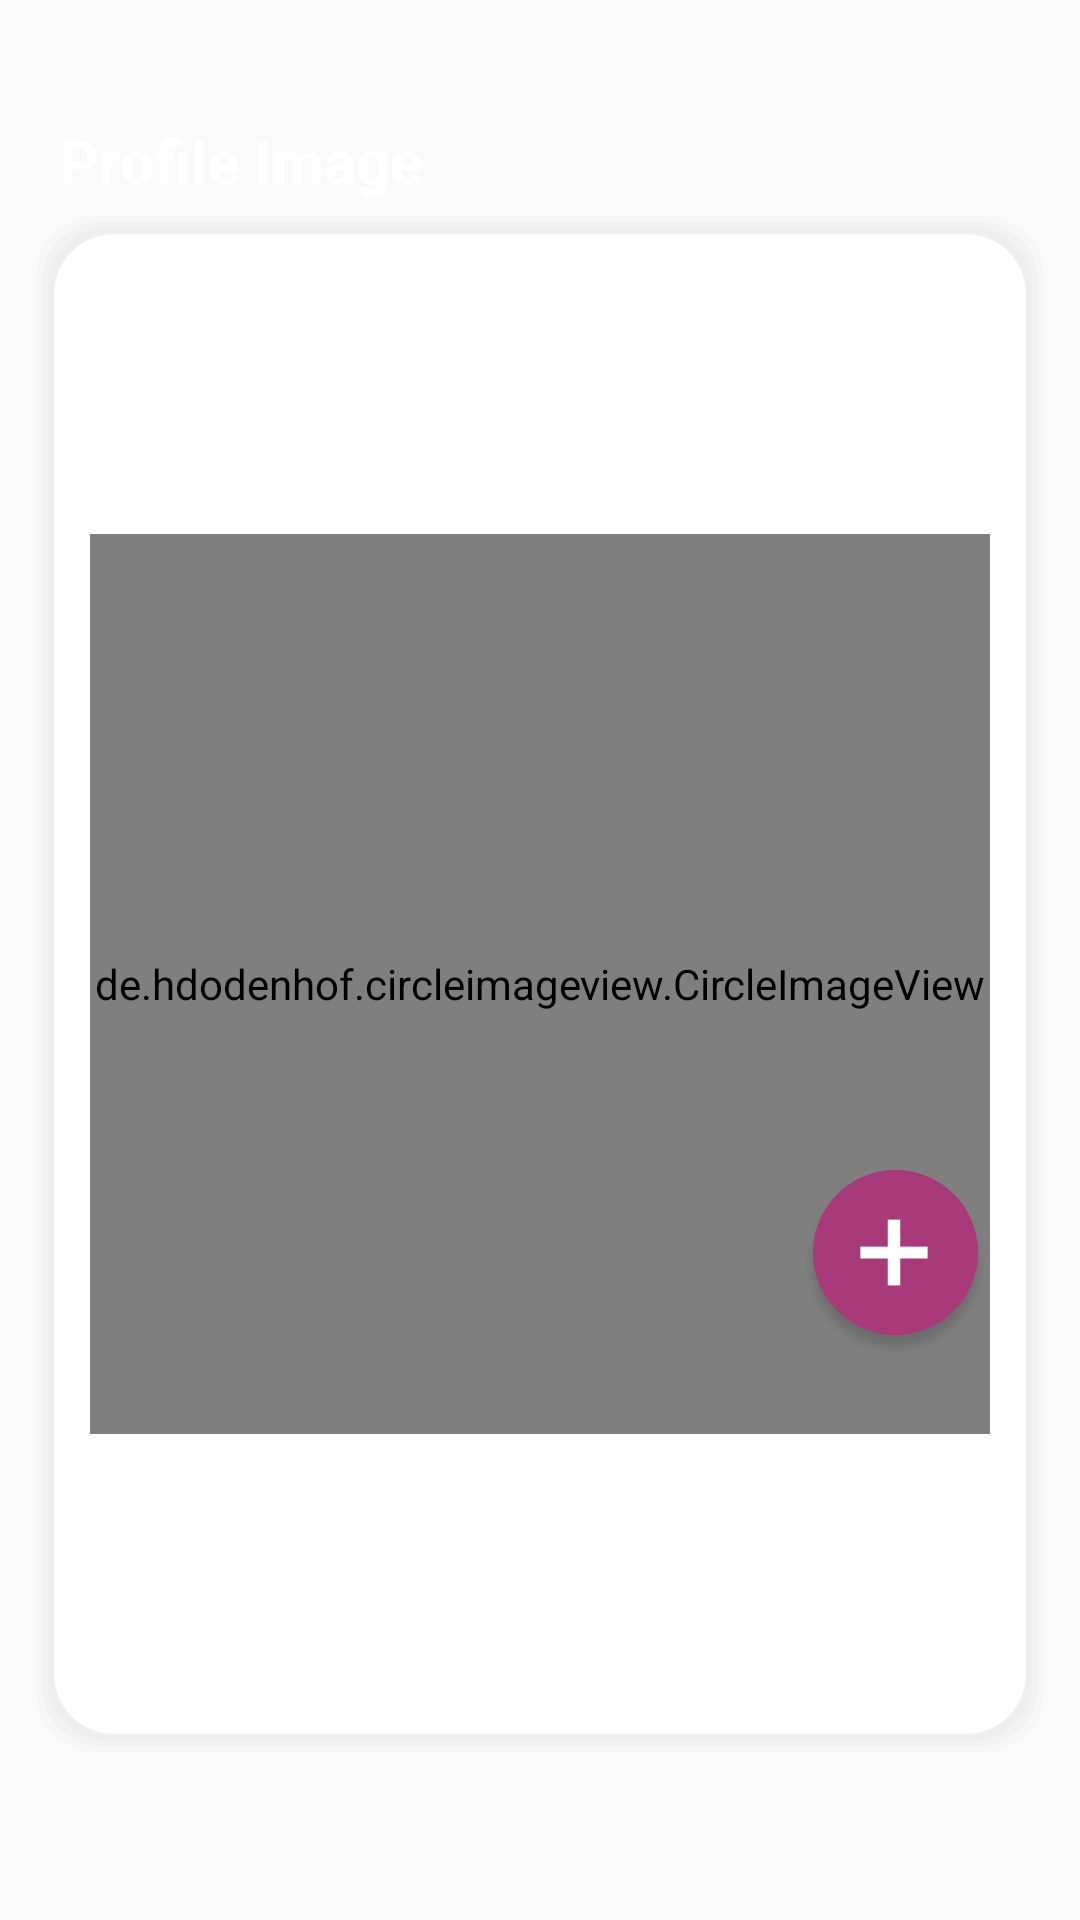

Icons on this 1080*1920 Android screen, each with the point to tap as (x=x, y=y):
add: (x=895, y=1252)
